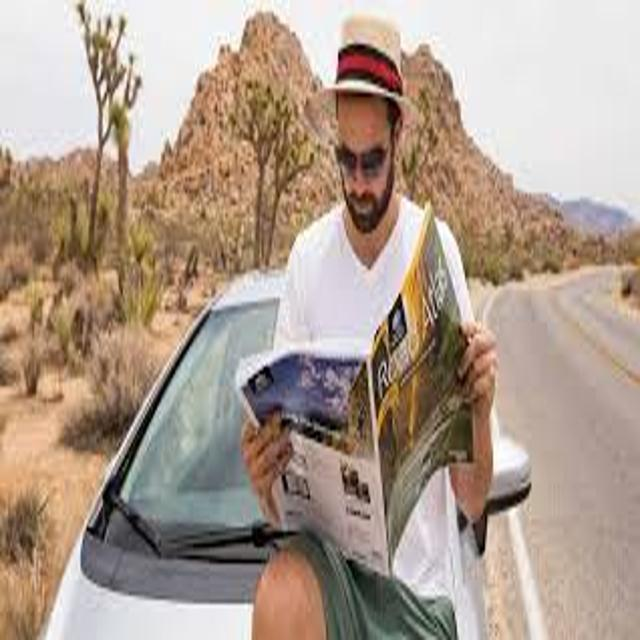car: (42, 275, 530, 640)
